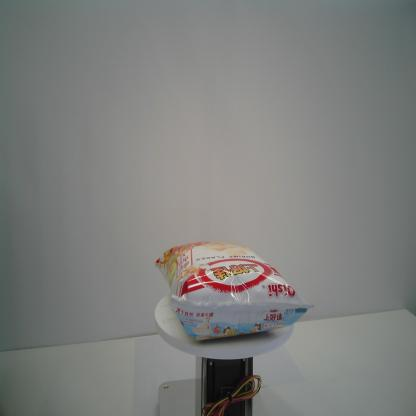Puffed Food: (152, 239, 316, 343)
